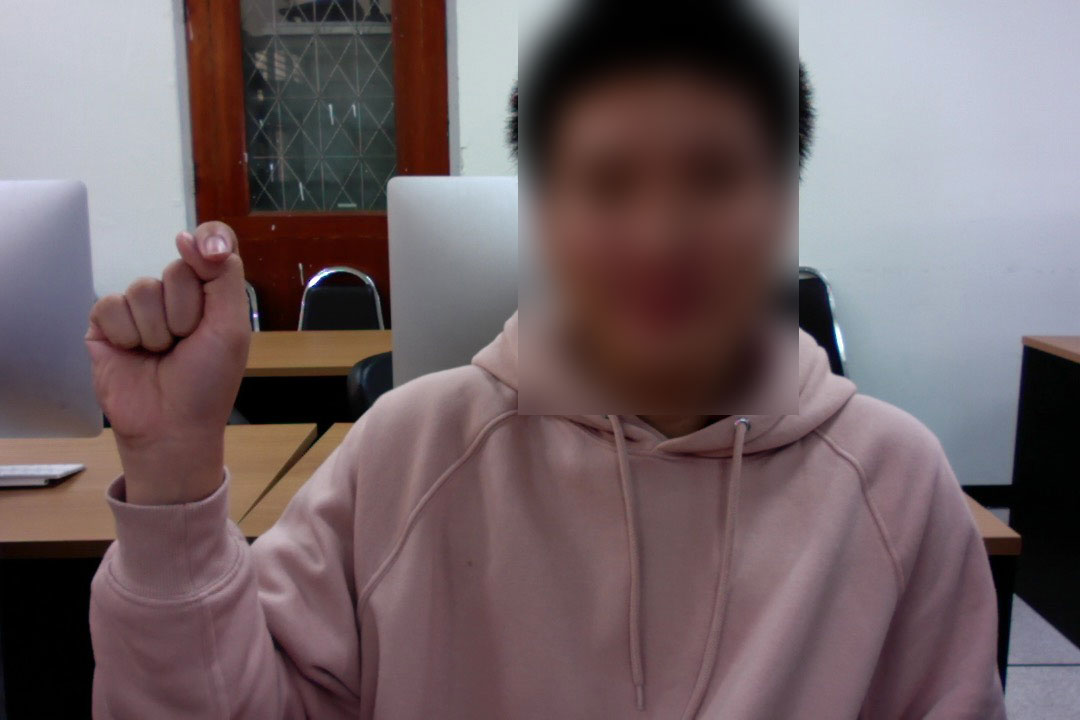tor: (80, 220, 250, 466)
